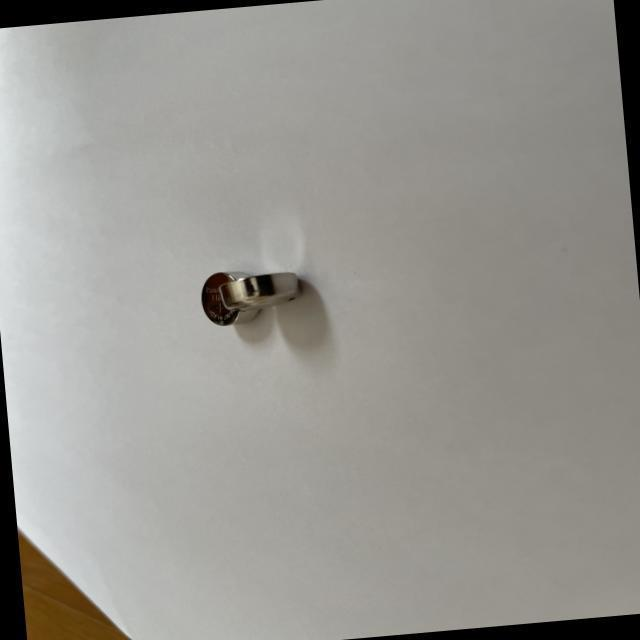COIN: (197, 266, 260, 327), (218, 266, 304, 310), (406, 334, 448, 389)
